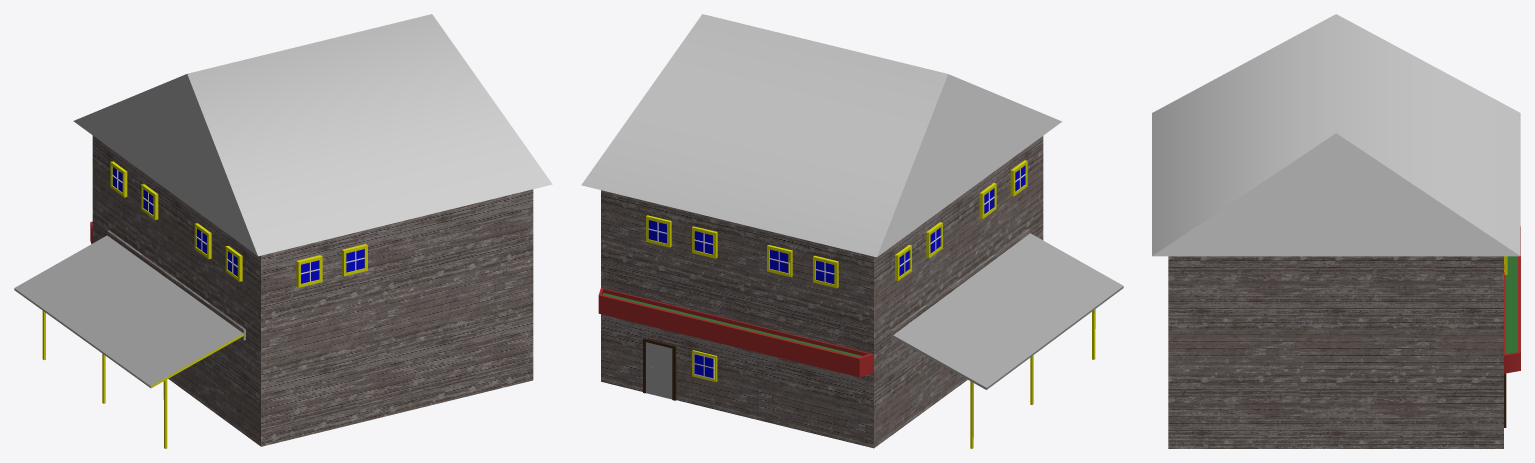
Rendered from House_Bar01.fbx.
3 renders of one model, left to right at view 1: azimuth 30°, elevation 25°; view 2: azimuth 150°, elevation 25°; view 3: azimuth 270°, elevation 25°, orthographic.
Parts seen in each view (by area): view 1: Bar; view 2: Bar; view 3: Bar.
Part boxes in pixels (x1,y1,x2,y2): Bar: (14,14,552,448); Bar: (581,14,1123,448); Bar: (1152,14,1520,448).
Size of the model in its own units: 1810 by 1411 by 1531.
